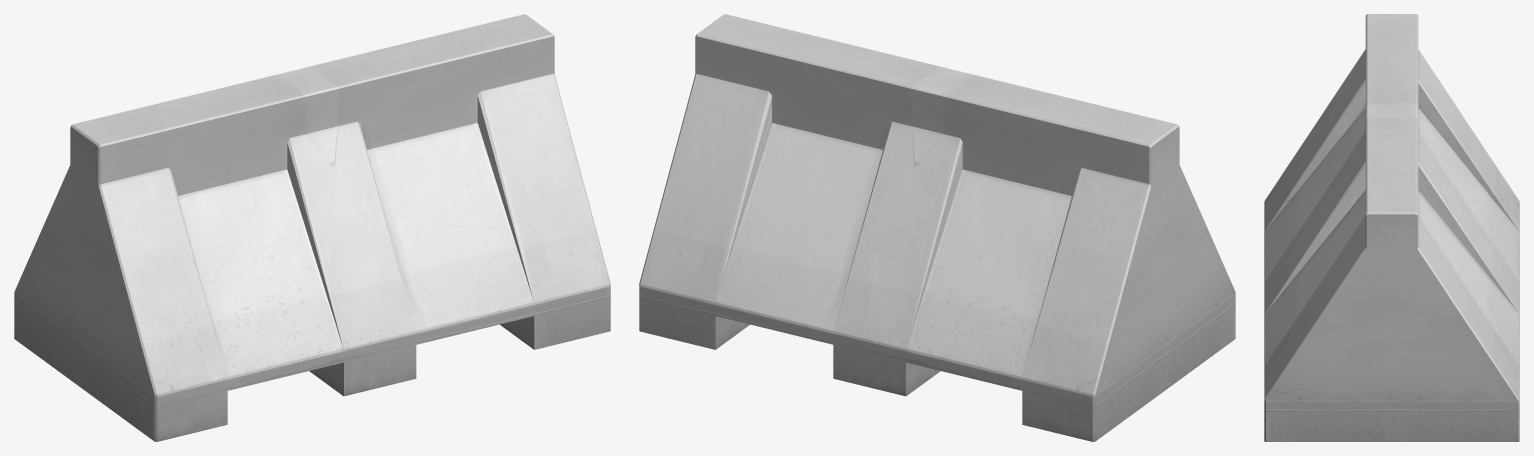
The model's file is Crash_Barrier_White.fbx.
3 renders of one model, left to right at view 1: azimuth 30°, elevation 25°; view 2: azimuth 150°, elevation 25°; view 3: azimuth 270°, elevation 25°, orthographic. The views are drawn at different scales.
Parts seen in each view (by area): view 1: Crash_Barrier_White; view 2: Crash_Barrier_White; view 3: Crash_Barrier_White.
Boxes of the visible parts, x1=… form: Crash_Barrier_White: x1=14, y1=14, x2=610, y2=441; Crash_Barrier_White: x1=639, y1=14, x2=1235, y2=441; Crash_Barrier_White: x1=1264, y1=14, x2=1519, y2=441.
Bounding box in the file's own units: 1.73 × 0.9237 × 0.9337.
